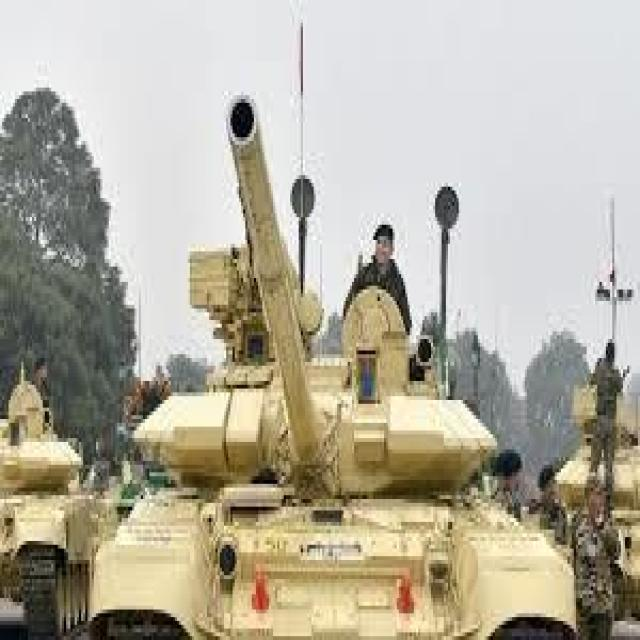Tanks: (107, 150, 578, 634), (2, 396, 100, 636), (562, 381, 637, 594)
